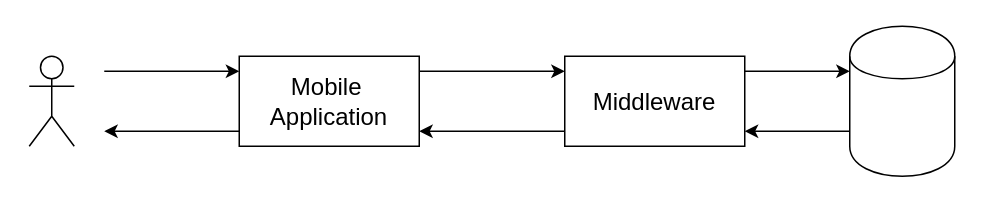
This 981x212 diagram has some shape labels left out. Here are the shapes that lost their labels. From the top down, the centre of each, then its label:
At (51,100): "User".
At (901,100): "Database".
